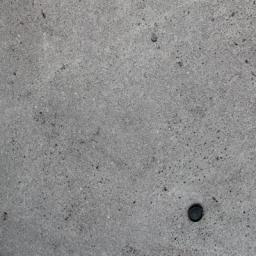FOD: (187, 202, 206, 225)
